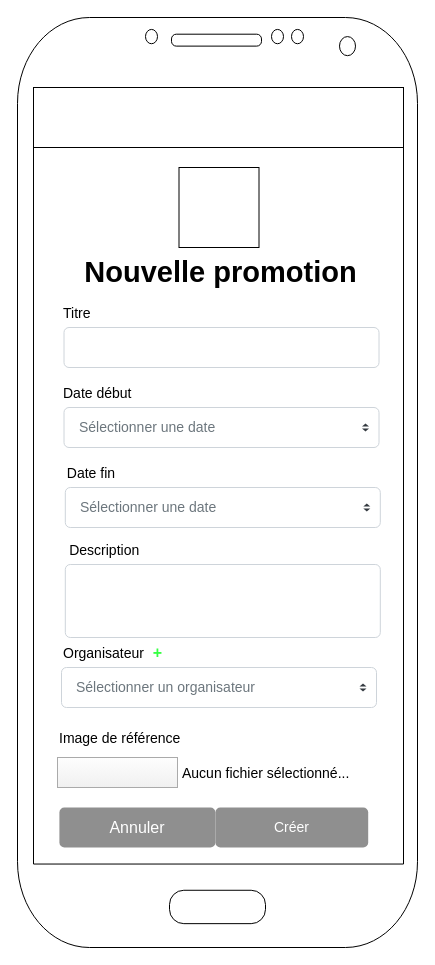
Image size: 435x965. Some labels were removed from this diagram. The box of each missing label's shape, as (x1, y1, x2, y2) in pixels:
Barre de navigation: (32, 86, 404, 148)
Choisir une img: (56, 756, 178, 788)
img: (178, 166, 259, 248)
